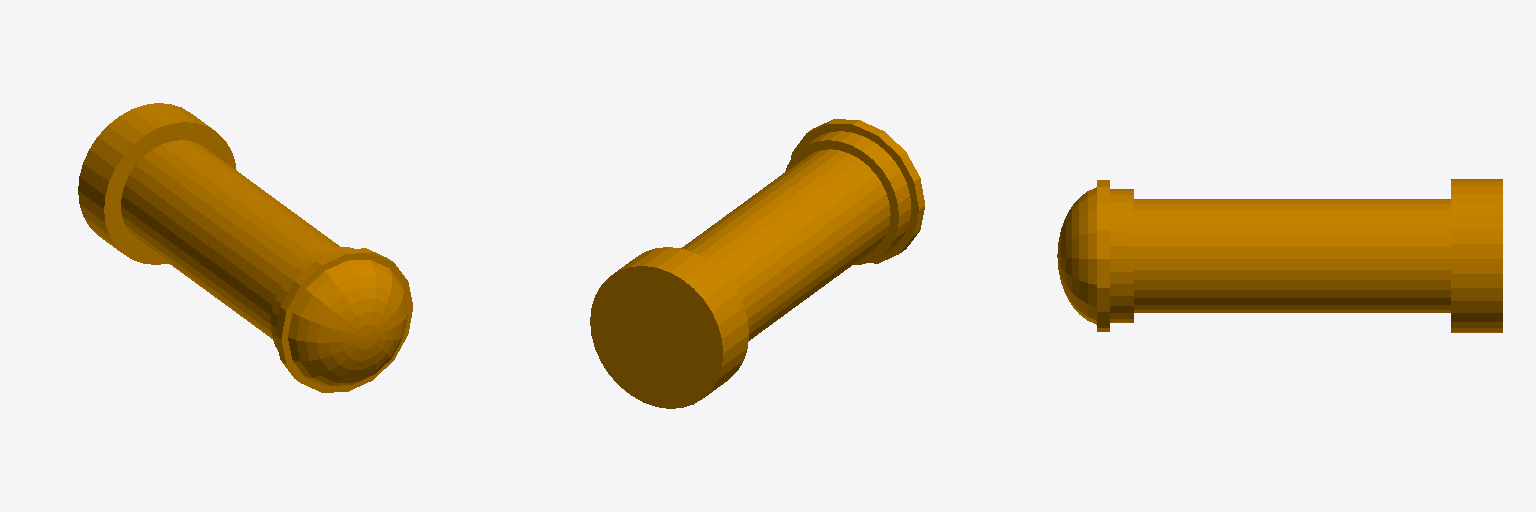
Rendered from bombeoNaranja.obj.
The picture shows the model from 3 angles: view 1: azimuth 30°, elevation 25°; view 2: azimuth 150°, elevation 25°; view 3: azimuth 270°, elevation 25°; orthographic projection.
Parts seen in each view (by area): view 1: Cylinder.001, Sphere_Sphere.001; view 2: Cylinder.001, Sphere_Sphere.001; view 3: Cylinder.001, Sphere_Sphere.001.
Boxes of the visible parts, x1,y1,x2,y2 form: Cylinder.001: [78, 103, 353, 351]; Sphere_Sphere.001: [275, 248, 412, 392]; Cylinder.001: [590, 131, 910, 408]; Sphere_Sphere.001: [791, 119, 924, 263]; Cylinder.001: [1110, 179, 1502, 332]; Sphere_Sphere.001: [1057, 180, 1109, 331].
Size of the model in its own units: 2.92 by 2.92 by 8.46.